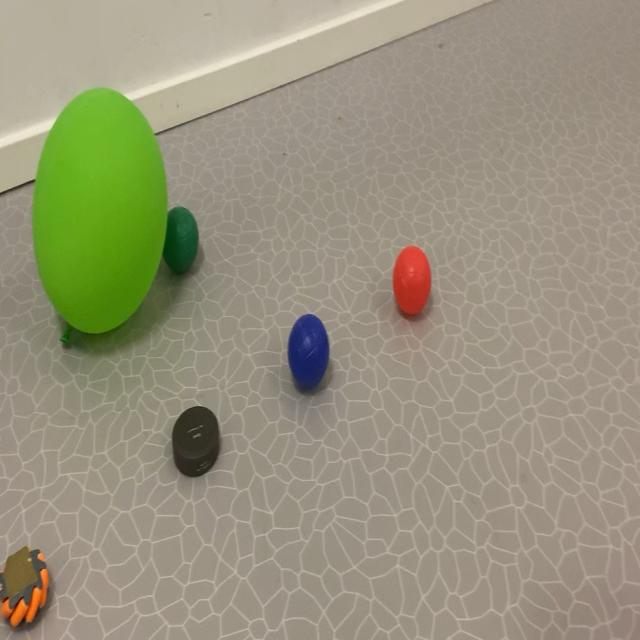7: (380, 223, 459, 381)
green ball: (270, 270, 352, 443)
red ball: (156, 180, 212, 334)
